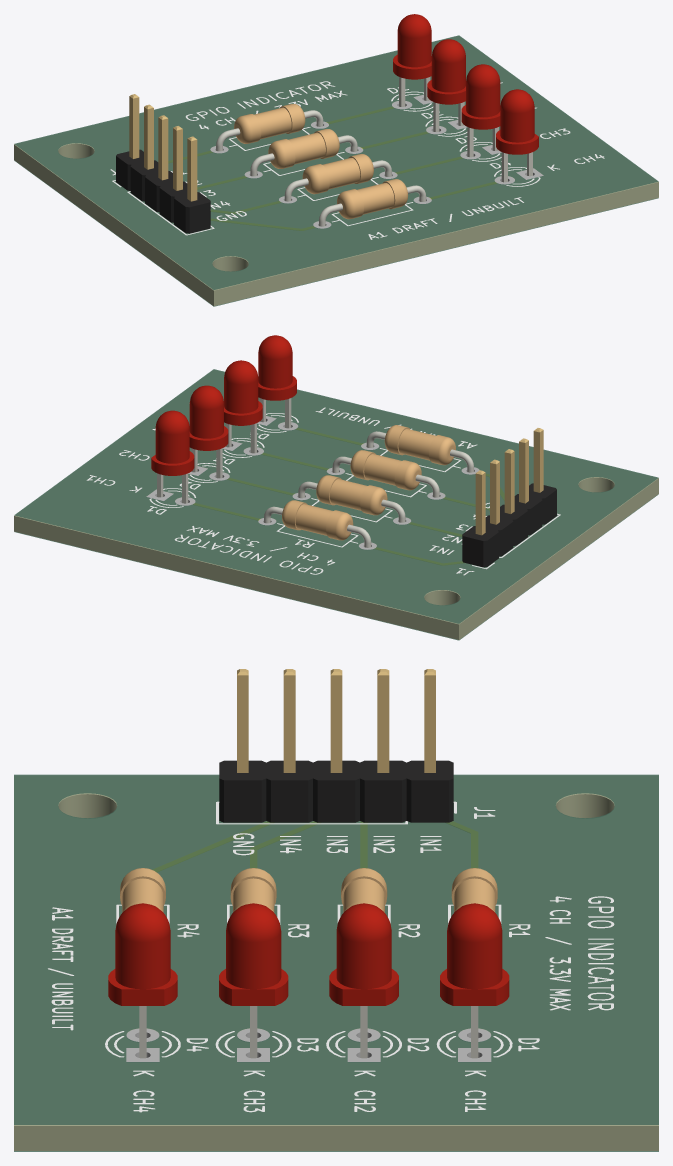
The model's file is gpio-indicator.glb.
3 renders of one model, top to bottom at view 1: azimuth 30°, elevation 25°; view 2: azimuth 150°, elevation 25°; view 3: azimuth 270°, elevation 25°, orthographic. The views are drawn at different scales.
Parts seen in each view (by area): view 1: =>[0:1:1:14], =>[0:1:1:12], =>[0:1:1:5] (×4), =>[0:1:1:3] (×4), =>[0:1:1:7], =>[0:1:1:10], =>[0:1:1:9], =>[0:1:1:8], =>[0:1:1:13]; view 2: =>[0:1:1:14], =>[0:1:1:12], =>[0:1:1:5] (×4), =>[0:1:1:3] (×4), =>[0:1:1:7], =>[0:1:1:10], =>[0:1:1:9], =>[0:1:1:8], =>[0:1:1:13]; view 3: =>[0:1:1:14], =>[0:1:1:12], =>[0:1:1:5] (×4), =>[0:1:1:7], =>[0:1:1:10], =>[0:1:1:3] (×4), =>[0:1:1:9], =>[0:1:1:8].
Boxes of the visible parts, x1,y1,x2,y2 form: =>[0:1:1:14]: (14, 36, 658, 306); =>[0:1:1:12]: (14, 35, 658, 289); =>[0:1:1:5] (×4): (393, 14, 538, 182); =>[0:1:1:3] (×4): (216, 104, 426, 226); =>[0:1:1:7]: (116, 94, 210, 233); =>[0:1:1:10]: (110, 81, 604, 239); =>[0:1:1:9]: (210, 94, 543, 228); =>[0:1:1:8]: (169, 107, 496, 230); =>[0:1:1:13]: (14, 160, 658, 306); =>[0:1:1:14]: (14, 370, 658, 639); =>[0:1:1:12]: (14, 369, 658, 623); =>[0:1:1:5] (×4): (151, 335, 296, 503); =>[0:1:1:3] (×4): (264, 425, 473, 547); =>[0:1:1:7]: (462, 428, 556, 567); =>[0:1:1:10]: (86, 407, 560, 575); =>[0:1:1:9]: (146, 416, 479, 549); =>[0:1:1:8]: (193, 428, 503, 564); =>[0:1:1:13]: (14, 494, 658, 640); =>[0:1:1:14]: (14, 776, 658, 1150); =>[0:1:1:12]: (14, 774, 658, 1124); =>[0:1:1:5] (×4): (108, 903, 509, 1058); =>[0:1:1:7]: (219, 669, 453, 822); =>[0:1:1:10]: (48, 801, 614, 1112); =>[0:1:1:3] (×4): (120, 868, 497, 912); =>[0:1:1:9]: (126, 1028, 491, 1061); =>[0:1:1:8]: (153, 822, 477, 871).
Size of the model in its own units: 0.045 by 0.0115 by 0.035.
